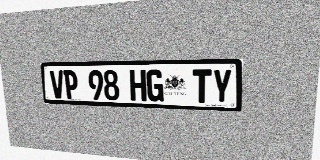8: (103, 70, 119, 100)
9: (88, 70, 104, 100)
G: (146, 70, 164, 102)
H: (129, 70, 146, 101)
P: (63, 70, 79, 99)
T: (193, 69, 212, 103)
V: (50, 70, 65, 99)
Y: (212, 69, 232, 104)
